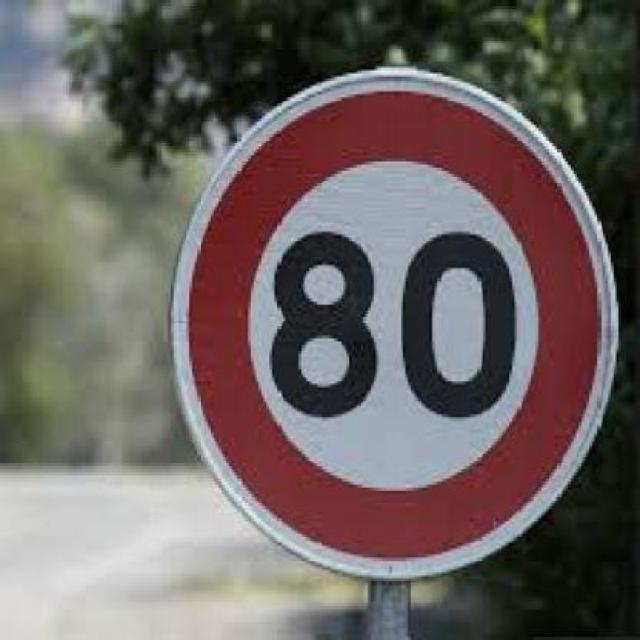forb_speed_over_80: (173, 76, 616, 573)
